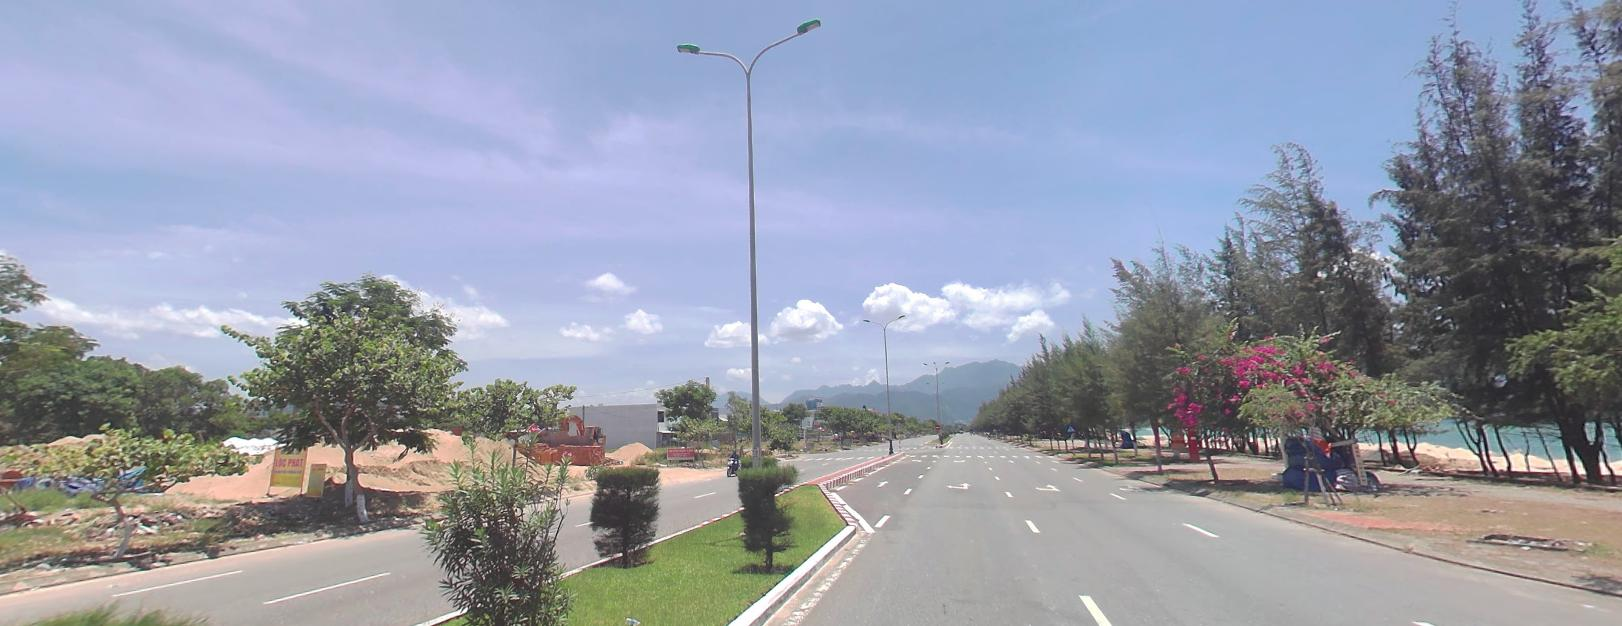Cam nguoc chieu: (935, 423, 939, 428)
